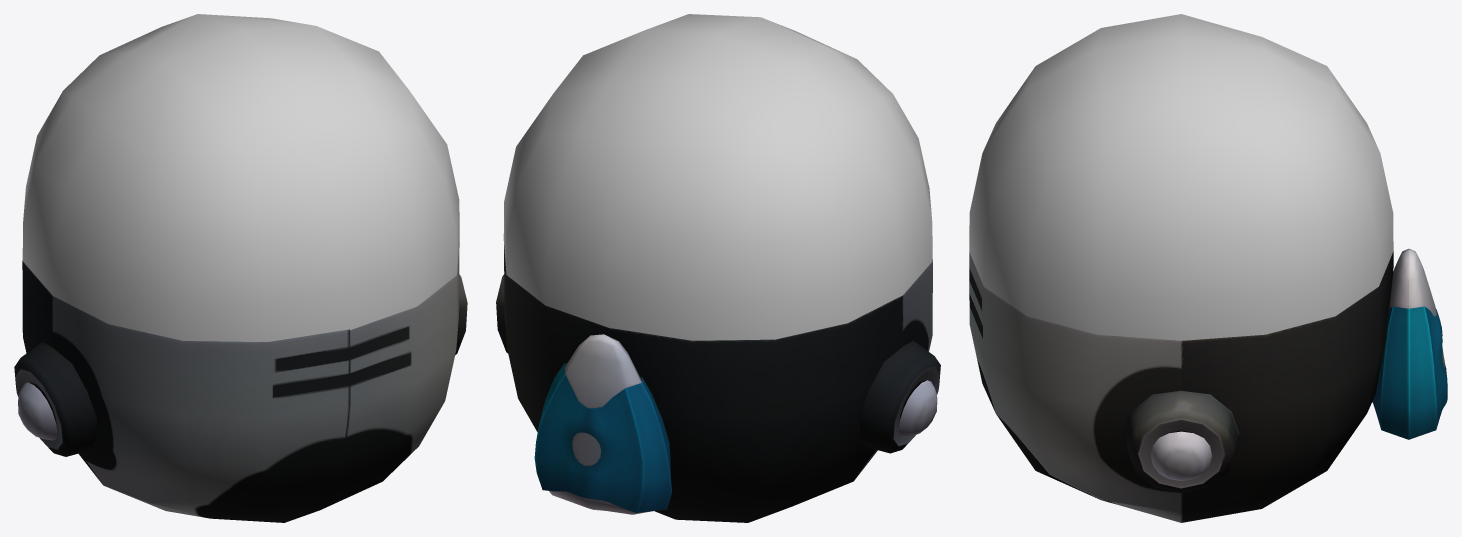
The model's file is Model_SleepMode.fbx.
The picture shows the model from 3 angles, left to right: view 1: azimuth 30°, elevation 25°; view 2: azimuth 150°, elevation 25°; view 3: azimuth 270°, elevation 25°; orthographic projection. The views are drawn at different scales.
Parts seen in each view (by area): view 1: clear cover, Torso, shoulder, Nut1_L; view 2: clear cover, Torso, jet engine1, shoulder, jet engine2, Nut1_L; view 3: clear cover, Torso, jet engine1, shoulder, Nut1_L, jet engine2.
Boxes of the visible parts, x1=… form: clear cover: x1=22, y1=14, x2=459, y2=341; Torso: x1=22, y1=243, x2=459, y2=522; shoulder: x1=14, y1=274, x2=467, y2=456; Nut1_L: x1=18, y1=382, x2=57, y2=440; clear cover: x1=503, y1=14, x2=932, y2=340; Torso: x1=504, y1=245, x2=932, y2=522; jet engine1: x1=534, y1=363, x2=672, y2=512; shoulder: x1=496, y1=274, x2=940, y2=453; jet engine2: x1=549, y1=334, x2=650, y2=514; Nut1_L: x1=898, y1=380, x2=937, y2=437; clear cover: x1=969, y1=14, x2=1393, y2=340; Torso: x1=969, y1=251, x2=1393, y2=522; jet engine1: x1=1372, y1=306, x2=1447, y2=439; shoulder: x1=1123, y1=390, x2=1239, y2=493; Nut1_L: x1=1150, y1=431, x2=1211, y2=480; jet engine2: x1=1389, y1=248, x2=1444, y2=368.
Bounding box in the file's own units: 149 × 155 × 145.
